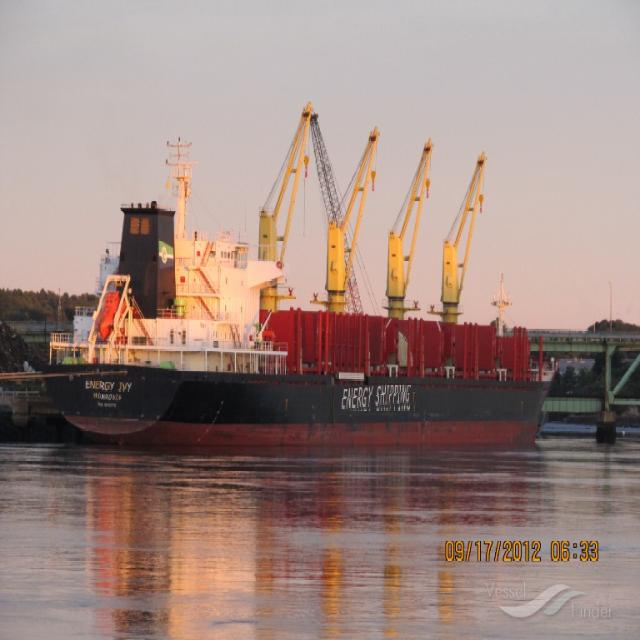OCR: (333, 386, 420, 414), (86, 373, 140, 410)
